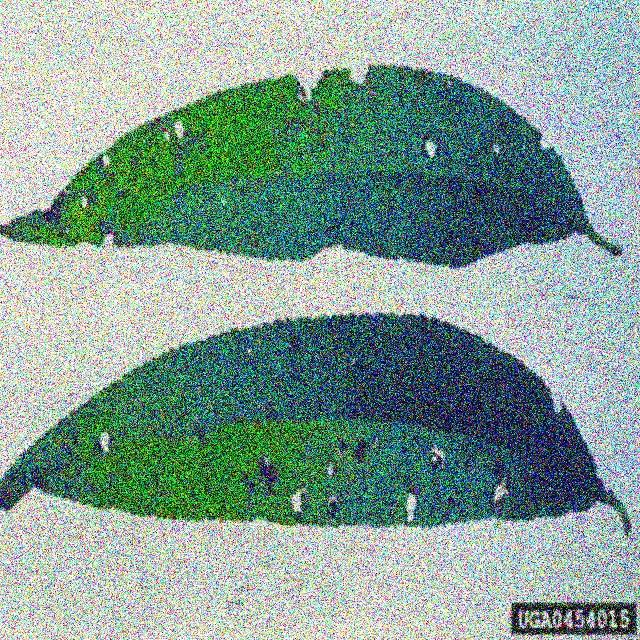shot_hole: (17, 67, 640, 252), (9, 387, 632, 534)
